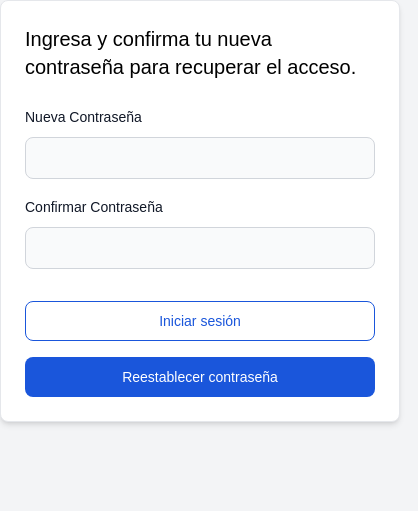
Test case: ResetPasswordCard › Form Validation › Given a user entering a password with at least 16 characters lower case, 1 upper case, 1 number, show error validation to enter 1 special character
In the password field with test id "password": (200, 158) [25, 137, 375, 179], type "alotofcharactersonpasswordA1"
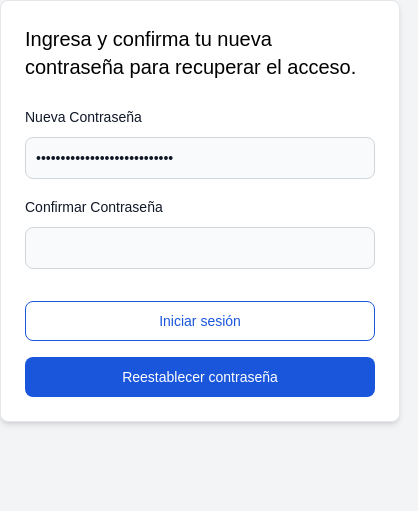
Click the button "Reestablecer contraseña": (200, 377) [25, 357, 375, 397]
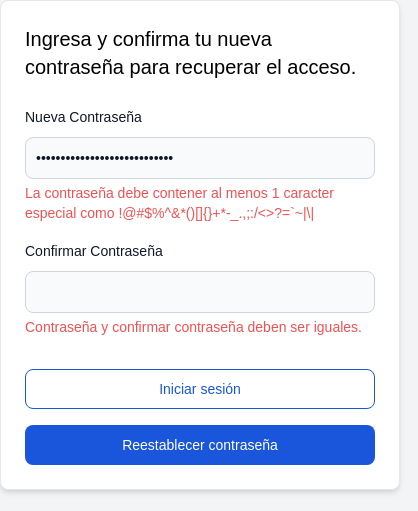
Now the text "La contraseña debe contener al menos 1 caracter especial" is shown, box [25, 185, 334, 221]
